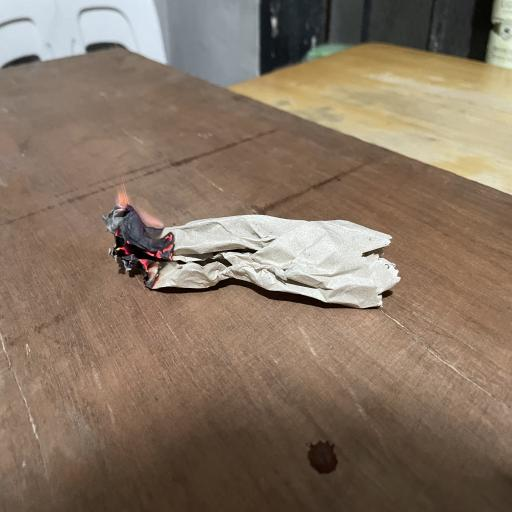fire: (97, 164, 187, 318)
